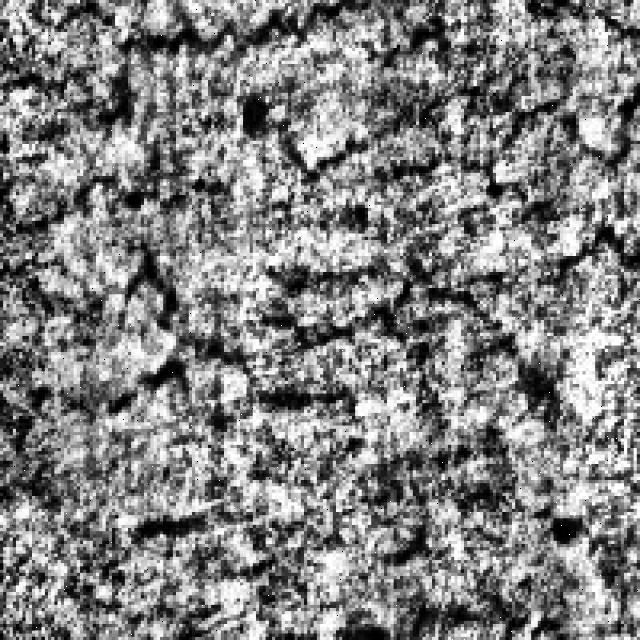Pitted_Surface: (221, 3, 624, 390), (13, 237, 368, 426), (9, 0, 480, 115)
